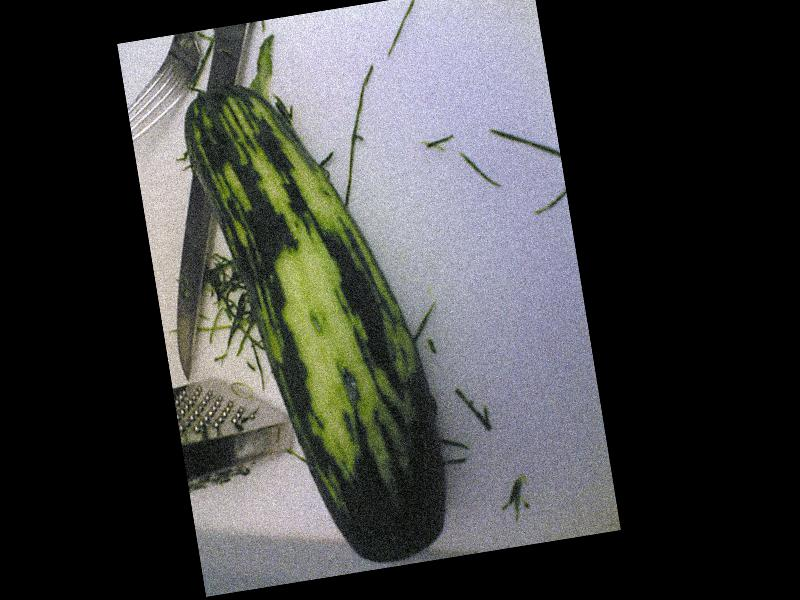Cucumber: (176, 59, 458, 583)
